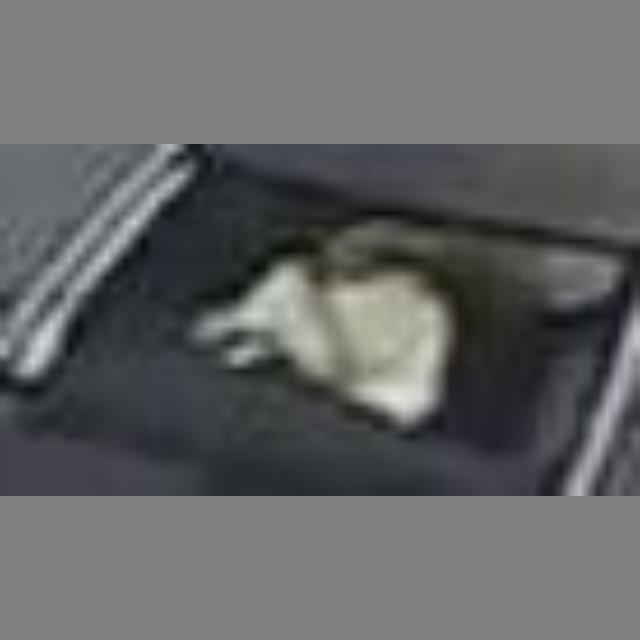pakai: (204, 209, 427, 422)
